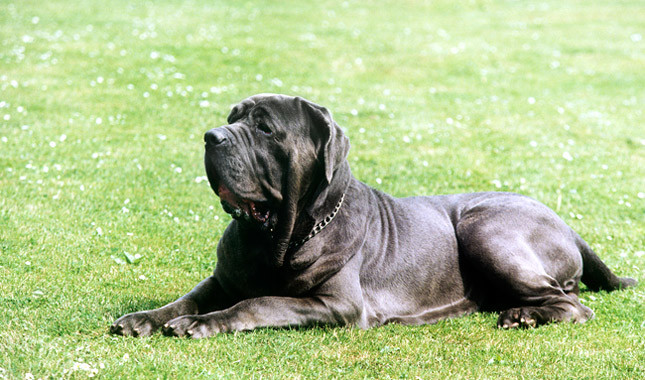neapolitan_mastiff: (108, 93, 639, 339)
